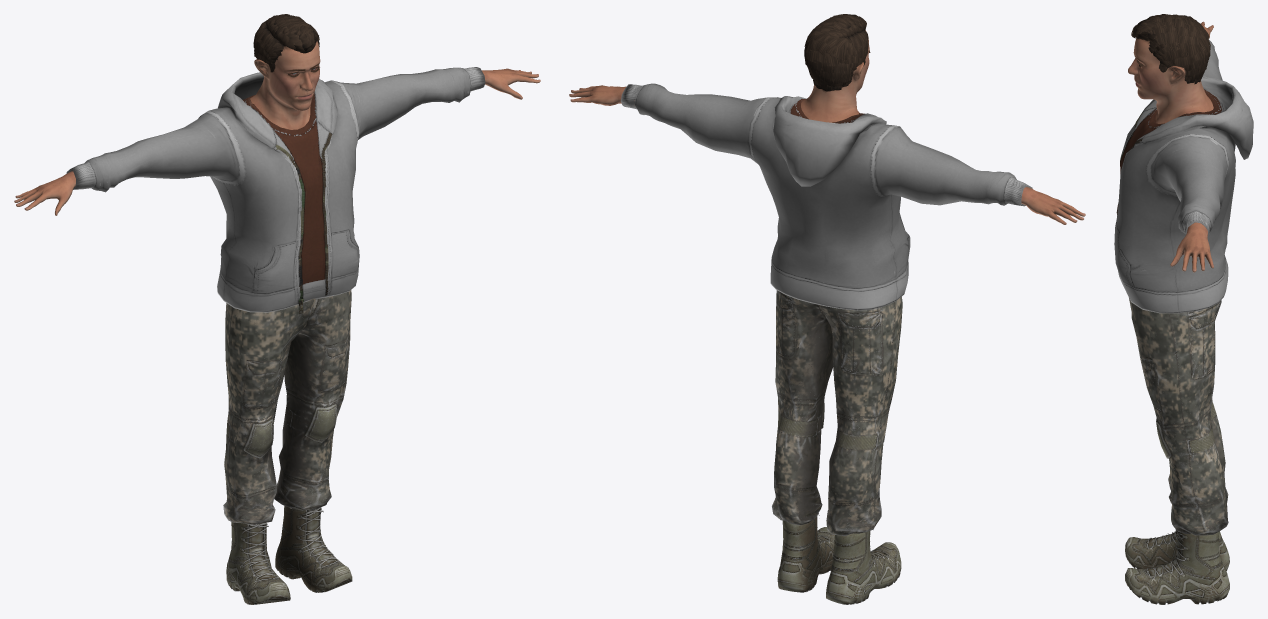
Rendered from human.obj.
3 renders of one model, left to right at view 1: azimuth 30°, elevation 25°; view 2: azimuth 150°, elevation 25°; view 3: azimuth 270°, elevation 25°, orthographic.
Visible parts, largest first — view 1: Tops, Bottoms, Shoes, Body, Hair; view 2: Tops, Bottoms, Shoes, Body, Hair; view 3: Tops, Bottoms, Shoes, Body, Hair.
Part boxes in pixels (box(x1,y1,x2,y2)): Tops: box(66, 67, 485, 313); Bottoms: box(223, 290, 351, 524); Shoes: box(226, 506, 352, 604); Body: box(14, 31, 540, 215); Hair: box(253, 14, 319, 72); Tops: box(620, 83, 1032, 310); Bottoms: box(772, 290, 902, 535); Shoes: box(777, 513, 901, 604); Body: box(569, 30, 1085, 224); Hair: box(804, 14, 868, 91); Tops: box(1114, 40, 1253, 313); Bottoms: box(1129, 298, 1228, 535); Shoes: box(1125, 529, 1229, 604); Body: box(1128, 21, 1213, 272); Hair: box(1131, 14, 1210, 84).
Bounding box in the file's own units: 171 × 179 × 39.7.
Materials: 5 (5 with a texture image).
